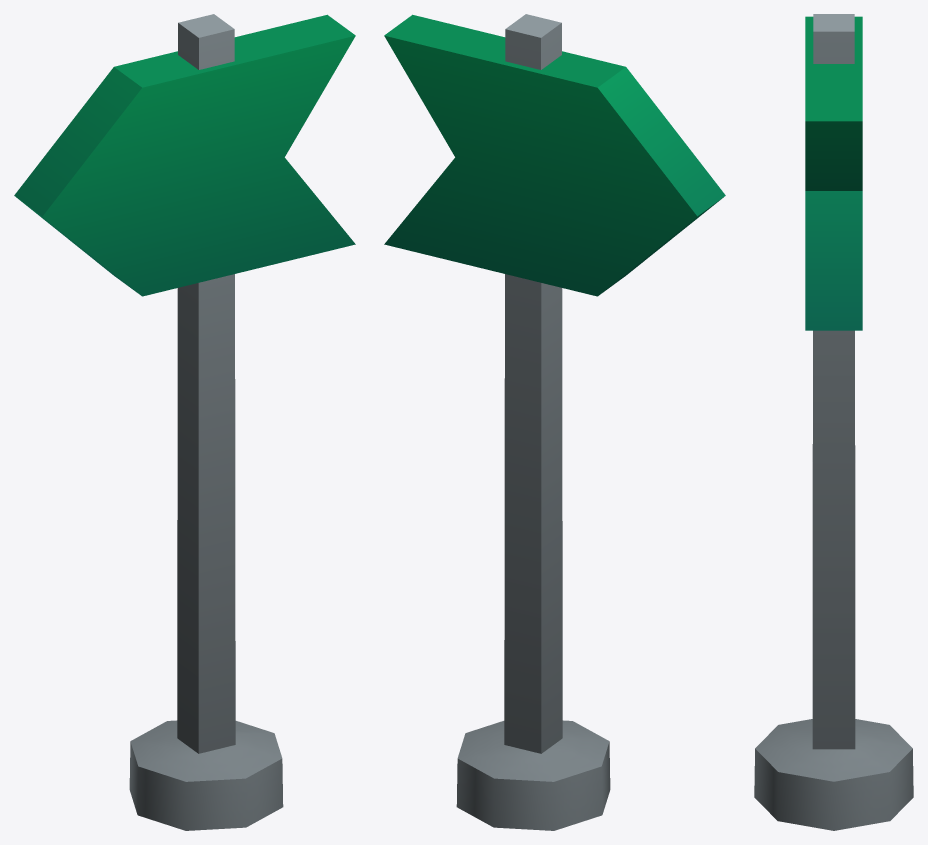
File: tracks_split_right_arrow.obj
3 renders of one model, left to right at view 1: azimuth 30°, elevation 25°; view 2: azimuth 150°, elevation 25°; view 3: azimuth 270°, elevation 25°, orthographic.
Visible parts, largest first — view 1: tracks_split_right_arrow; view 2: tracks_split_right_arrow; view 3: tracks_split_right_arrow.
Part boxes in pixels (<box>): tracks_split_right_arrow: <box>14,14,355,830</box>; tracks_split_right_arrow: <box>384,14,725,830</box>; tracks_split_right_arrow: <box>754,14,913,830</box>.
Bounding box in the file's own units: 0.228 × 0.5372 × 0.1002.
1 material, 1 textured.
